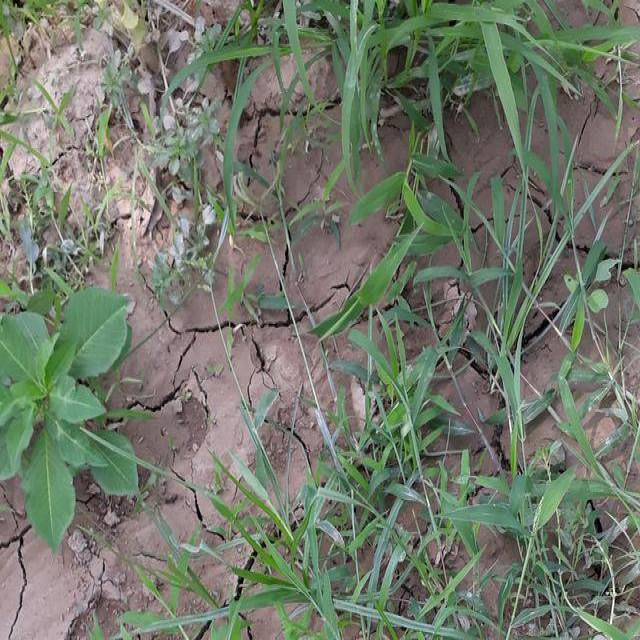weed: (298, 359, 544, 640), (210, 1, 610, 136)
